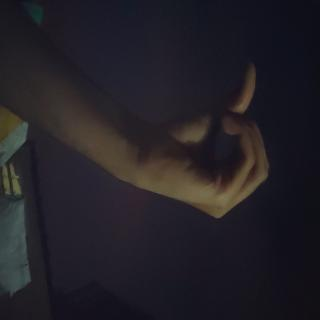WAW: (45, 55, 170, 261)
